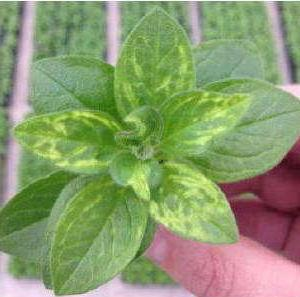Tomato leaf mosaic virus: (50, 179, 151, 291), (110, 8, 193, 144), (148, 90, 253, 163), (9, 108, 125, 173)
